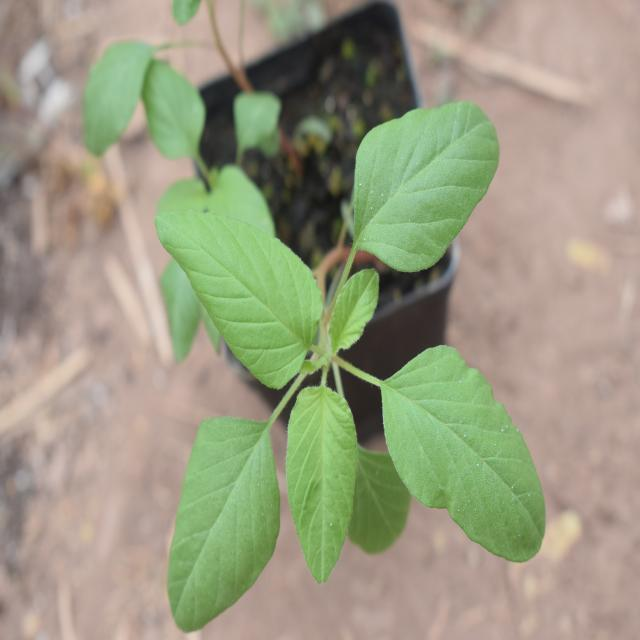pigweed: (150, 115, 543, 599)
